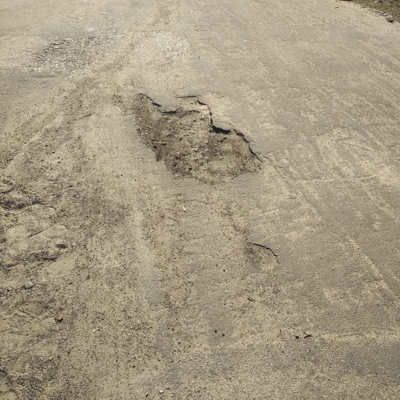pothole: (131, 92, 267, 187), (245, 241, 282, 274)
